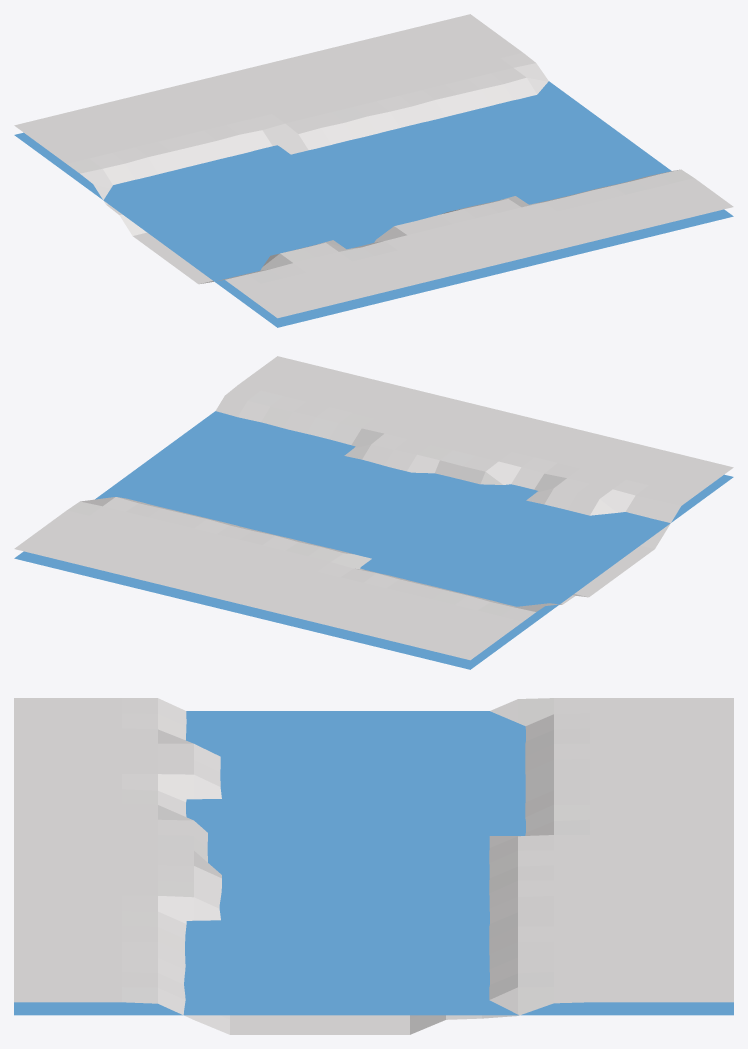
Rendered from River1-2.fbx.
3 views of the same model, one above another, from view 1: azimuth 30°, elevation 25°; view 2: azimuth 150°, elevation 25°; view 3: azimuth 270°, elevation 25° (orthographic). The views are drawn at different scales.
Visible parts, largest first — view 1: River1-2, RiverWater1-2; view 2: River1-2, RiverWater1-2; view 3: River1-2, RiverWater1-2.
Part boxes in pixels (x1,y1,x2,y2): River1-2: (14,14,733,318); RiverWater1-2: (14,81,733,327); River1-2: (14,356,733,660); RiverWater1-2: (14,411,733,669); River1-2: (14,698,733,1034); RiverWater1-2: (14,711,733,1015).
Bounding box in the file's own units: 2000 × 100 × 2000.
